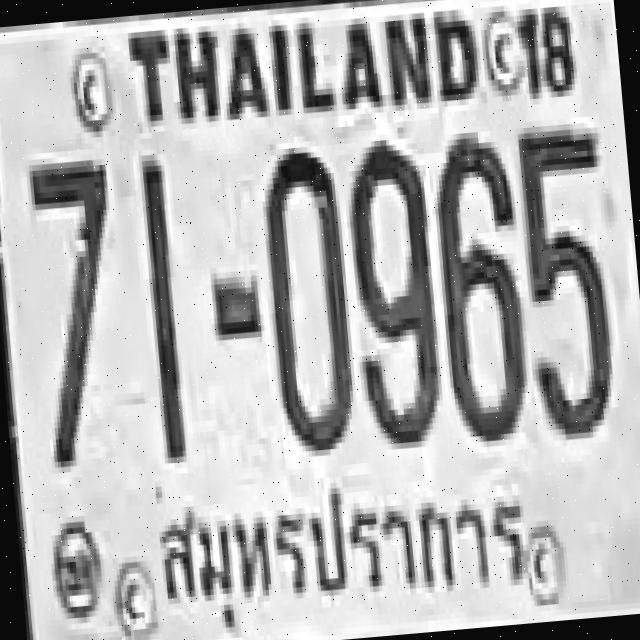0: (258, 144, 358, 452)
1: (136, 157, 187, 460)
5: (514, 121, 620, 436)
6: (428, 129, 532, 438)
7: (24, 153, 128, 462)
9: (340, 137, 443, 446)
SamutPrakan: (139, 458, 536, 624)
